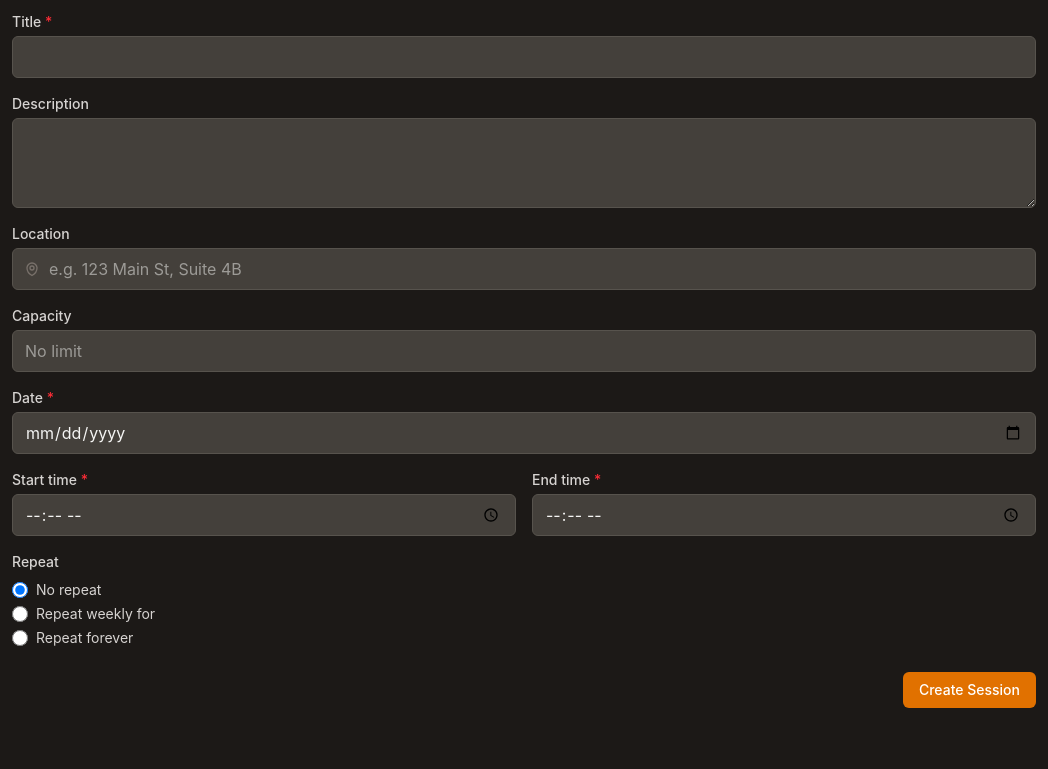
it: SessionForm › recurrence options › hides day-of-week and interval selectors when no repeat is selected
Click the radio button labelled "Repeat weekly for" at point(20, 614), box x1=12 y1=606 x2=28 y2=622
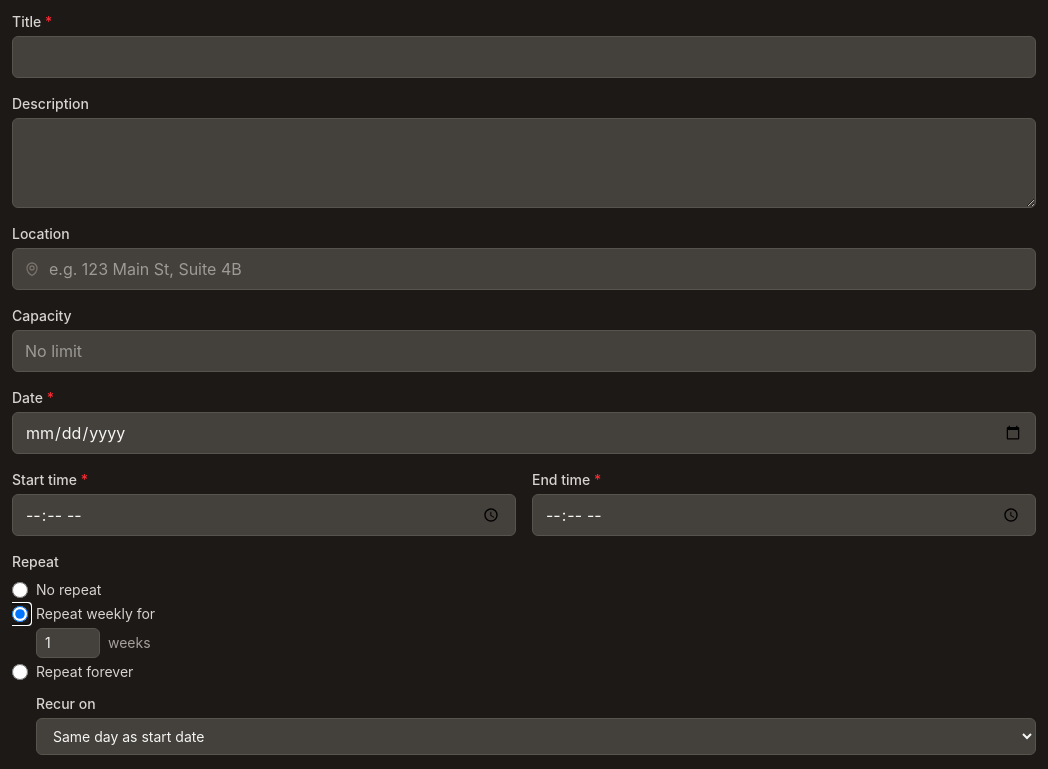
Expected: the dropdown labelled "Recur on" is shown, x1=36 y1=718 x2=1036 y2=755
Click the radio button labelled "No repeat" at point(20, 590), box x1=12 y1=582 x2=28 y2=598
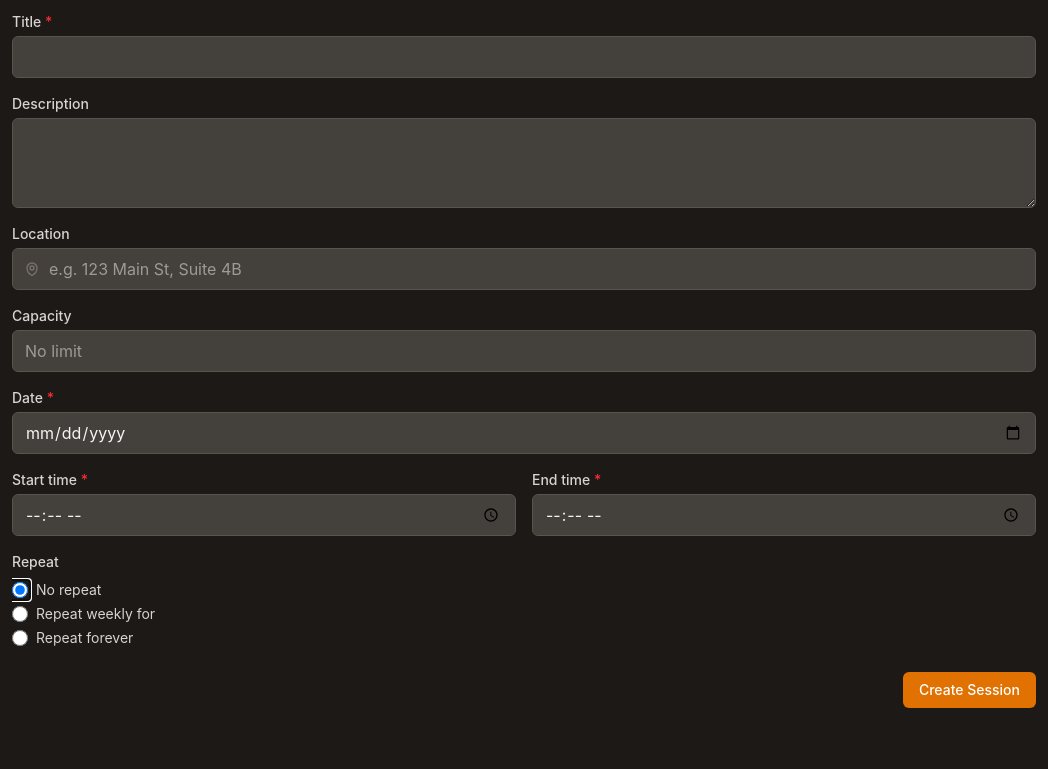
Expected: the label labelled "Recur on" is gone
